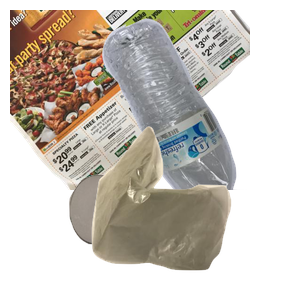glass: (67, 172, 229, 300)
paper: (10, 10, 250, 190)
plastic: (100, 16, 300, 196)
trash: (89, 124, 300, 300)
